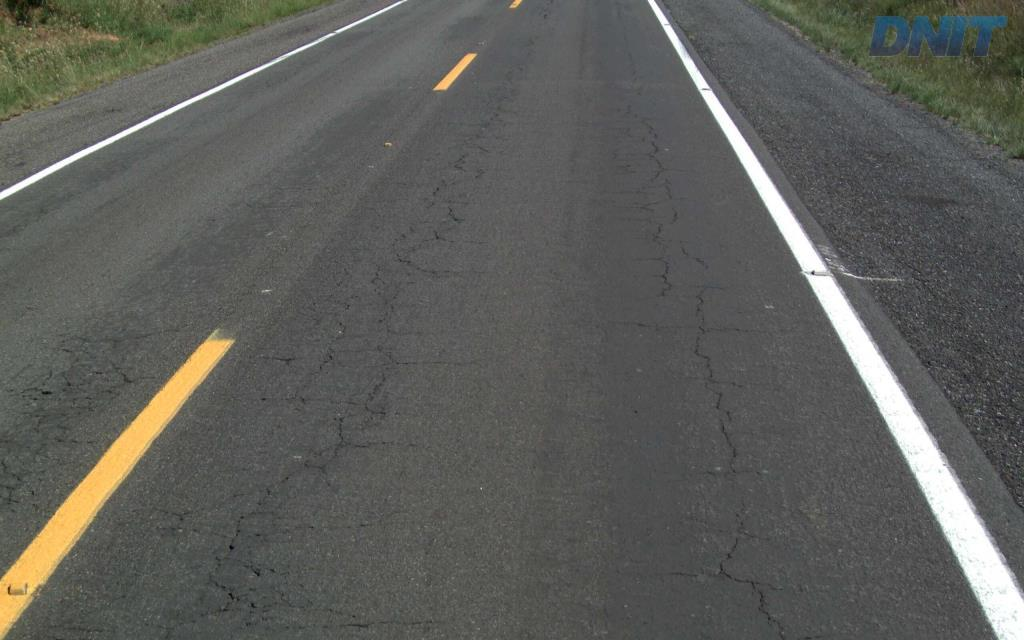crack: (708, 559, 784, 633), (693, 315, 723, 410), (205, 572, 248, 616)
